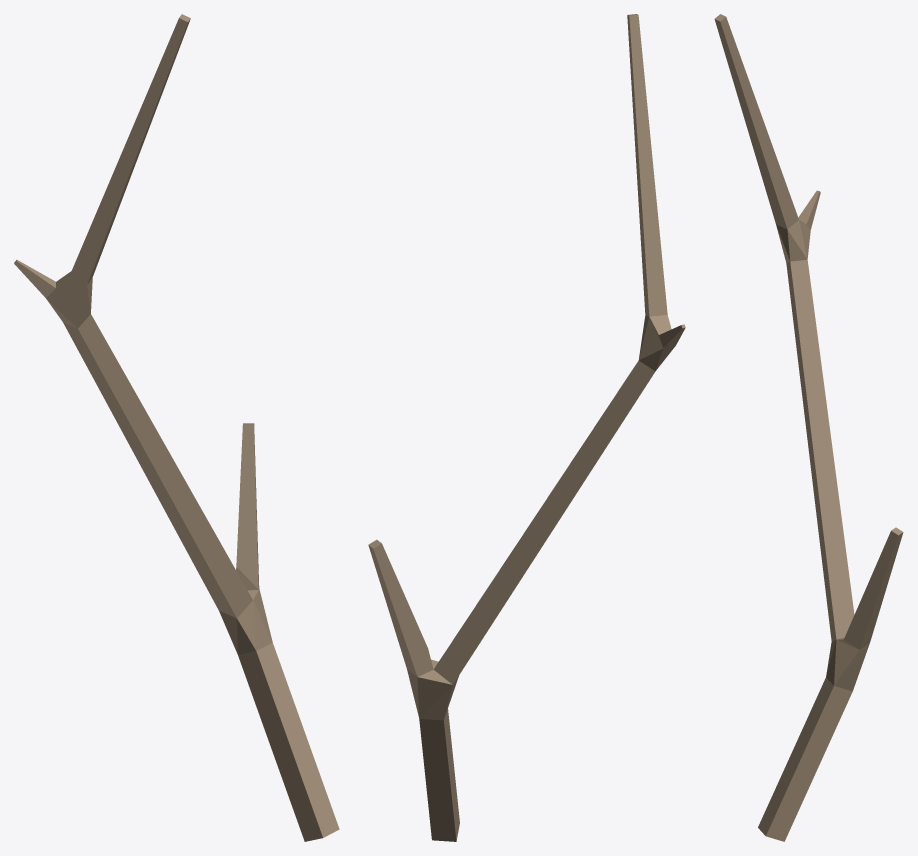
Rendered from stick_01_olive.fbx.
3 views of the same model, side by side, from view 1: azimuth 30°, elevation 25°; view 2: azimuth 150°, elevation 25°; view 3: azimuth 270°, elevation 25° (orthographic). The views are drawn at different scales.
Visible parts, largest first — view 1: Cube; view 2: Cube; view 3: Cube.
Boxes of the visible parts, x1,y1,x2,y2 form: Cube: [14, 14, 339, 841]; Cube: [368, 14, 685, 841]; Cube: [714, 14, 903, 841].
Size of the model in its own units: 18.43 by 53.01 by 12.06.
